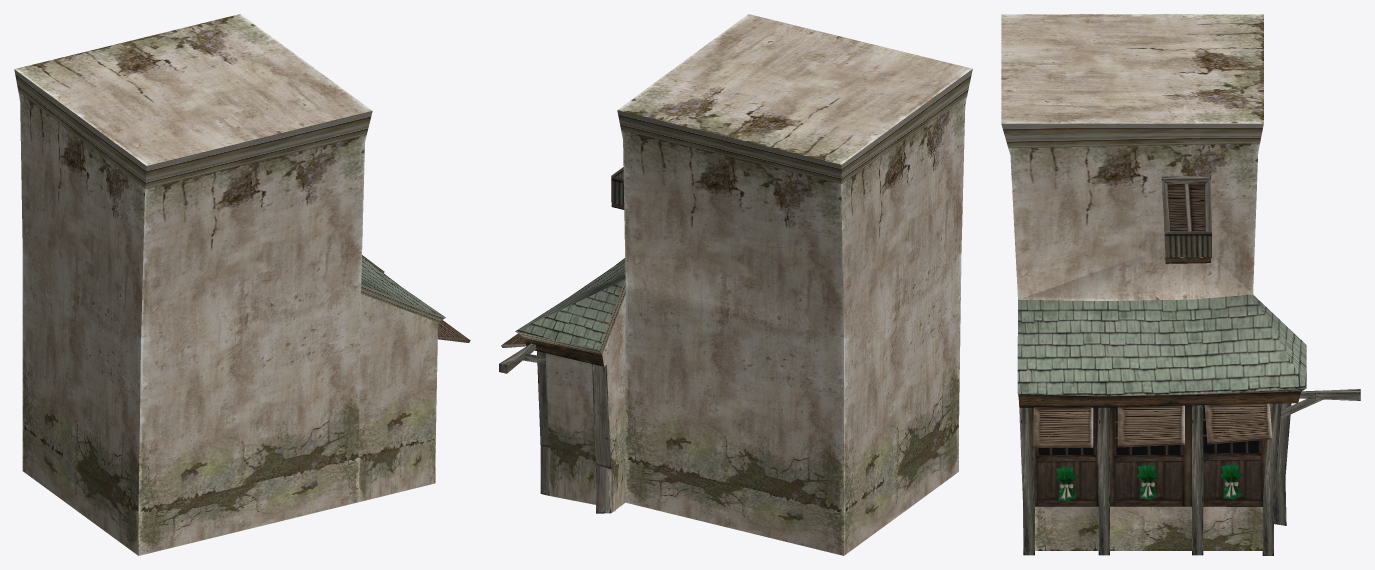
File: english_c.fbx
The picture shows the model from 3 angles, left to right: view 1: azimuth 30°, elevation 25°; view 2: azimuth 150°, elevation 25°; view 3: azimuth 270°, elevation 25°; orthographic projection.
Visible parts, largest first — view 1: facade_c_shell; view 2: facade_c_shell; view 3: facade_c_shell, shutters, window_03_DUP, railing, window_02.
Part boxes in pixels (x1=…): facade_c_shell: x1=14, y1=14, x2=445, y2=555; facade_c_shell: x1=499, y1=14, x2=972, y2=555; facade_c_shell: x1=1001, y1=14, x2=1360, y2=555; shutters: x1=1033, y1=403, x2=1272, y2=447; window_03_DUP: x1=1167, y1=184, x2=1205, y2=231; railing: x1=1164, y1=219, x2=1211, y2=258; window_02: x1=1161, y1=176, x2=1211, y2=233.
Bounding box in the file's own units: 4040 × 4522 × 3706.
3 materials, 3 textured.
